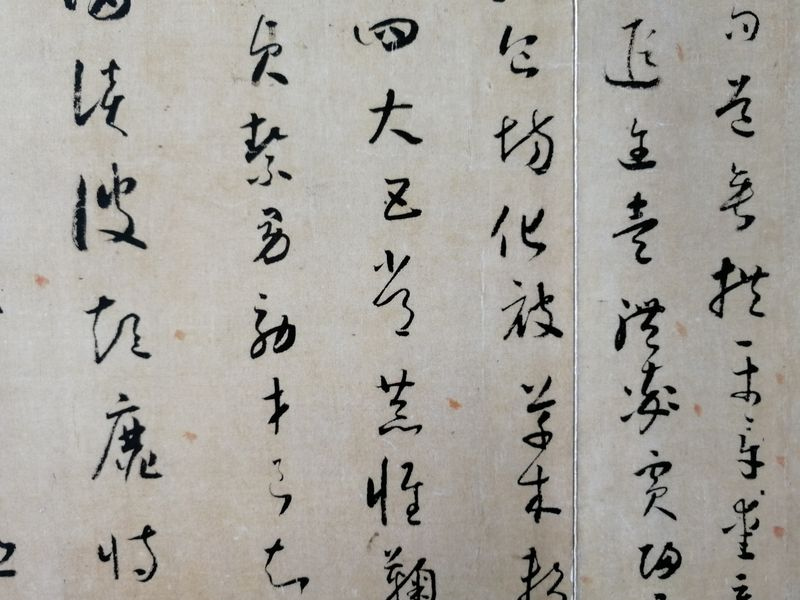zi: (69, 162, 154, 256), (92, 388, 161, 482), (361, 453, 424, 531), (88, 294, 158, 364), (603, 15, 662, 96), (67, 55, 126, 135), (90, 522, 159, 590), (497, 274, 565, 342), (488, 110, 557, 176), (623, 359, 680, 436), (707, 256, 772, 321), (373, 247, 418, 340), (239, 107, 292, 185), (244, 9, 293, 88), (368, 89, 427, 148), (609, 193, 658, 264), (636, 445, 680, 523), (516, 371, 558, 452), (721, 495, 772, 561), (485, 198, 542, 256), (375, 369, 425, 434), (246, 291, 296, 356), (612, 291, 667, 350), (497, 16, 545, 83), (264, 536, 314, 597), (717, 67, 759, 139), (379, 544, 433, 600), (515, 550, 572, 600), (514, 459, 559, 522), (354, 17, 423, 58), (728, 339, 767, 411), (636, 533, 687, 584), (718, 161, 754, 232), (248, 204, 290, 263), (733, 421, 767, 482), (383, 176, 423, 225), (624, 117, 654, 176), (722, 6, 763, 45), (68, 1, 136, 24), (267, 454, 290, 510), (262, 378, 286, 430)
